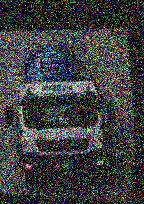truck: (0, 33, 130, 195)
